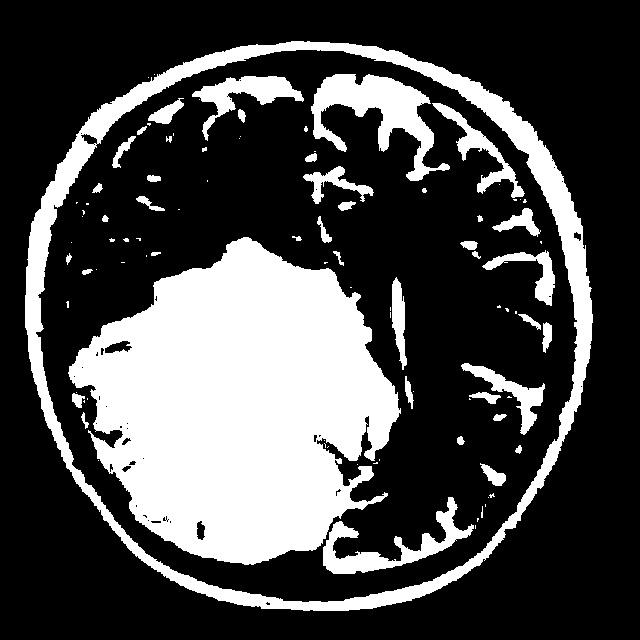Brain-Tumor: (64, 222, 398, 579)
